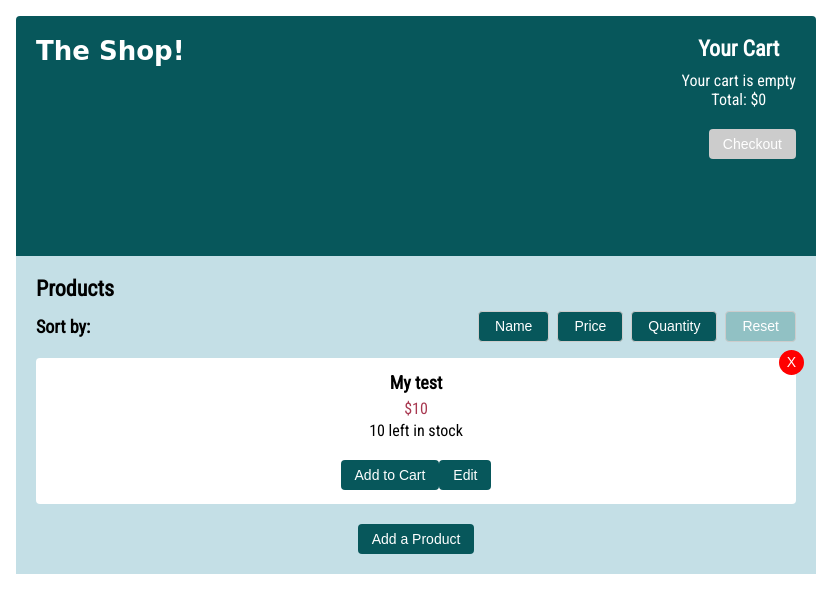
Deleting the product removes the product
This screenshot has width=833, height=591.
Click the button "X" at (792, 362), box [779,350,804,375]
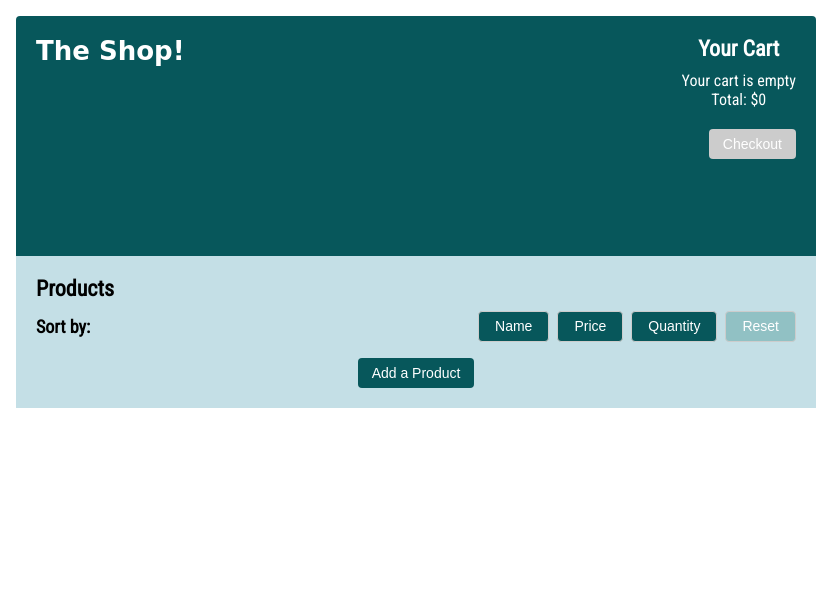
Now the heading "My test" is gone
